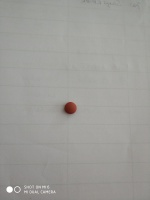Dolorex: (63, 100, 77, 115)
